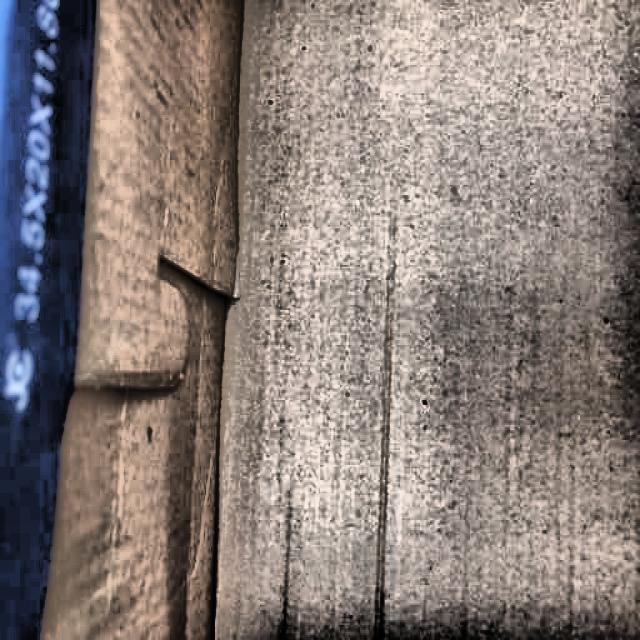cardboard: (3, 4, 600, 586)
